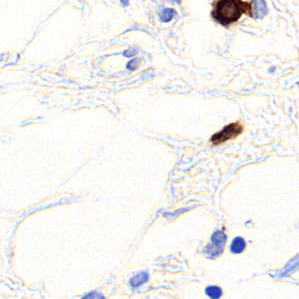Lymphocyte: (211, 119, 245, 147)
